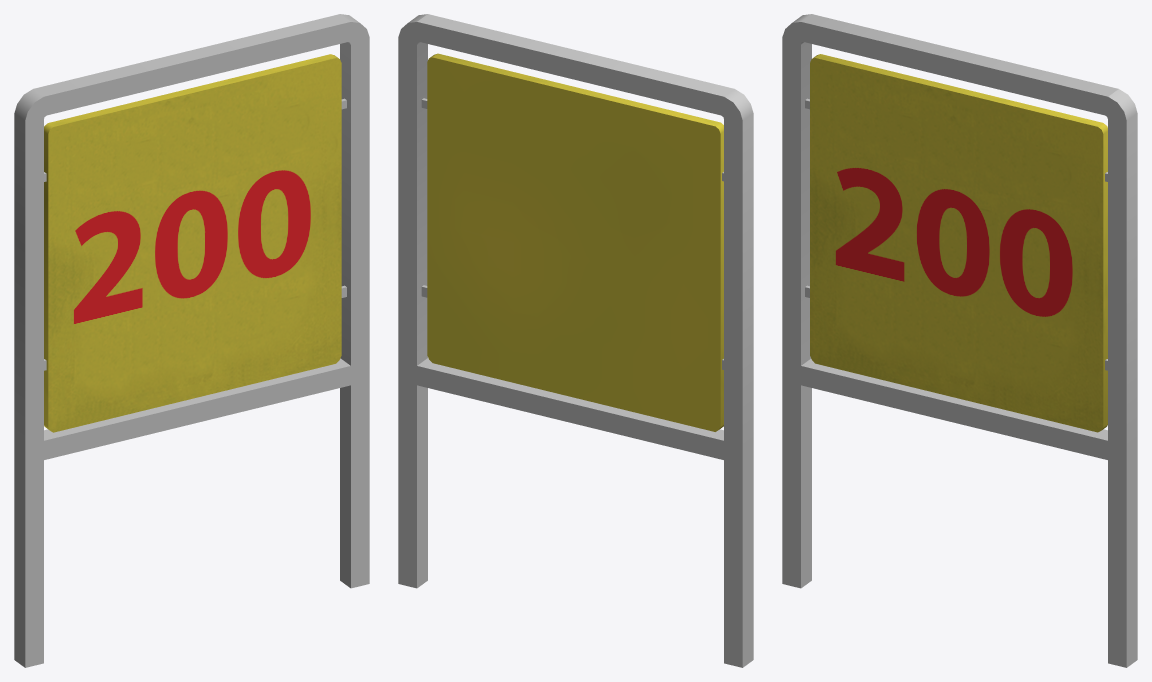
The model's file is Track_Sign_200_Yellow.fbx.
3 views of the same model, side by side, from view 1: azimuth 30°, elevation 25°; view 2: azimuth 150°, elevation 25°; view 3: azimuth 330°, elevation 25° (orthographic).
Parts seen in each view (by area): view 1: Speed_200, Frame; view 2: Speed_200, Frame; view 3: Speed_200, Frame.
Boxes of the visible parts, x1,y1,x2,y2 form: Speed_200: (44,54,341,432); Frame: (14,14,369,667); Speed_200: (427,53,723,431); Frame: (398,14,753,667); Speed_200: (810,54,1107,432); Frame: (782,14,1137,667).
Size of the model in its own units: 130 by 204 by 7.
